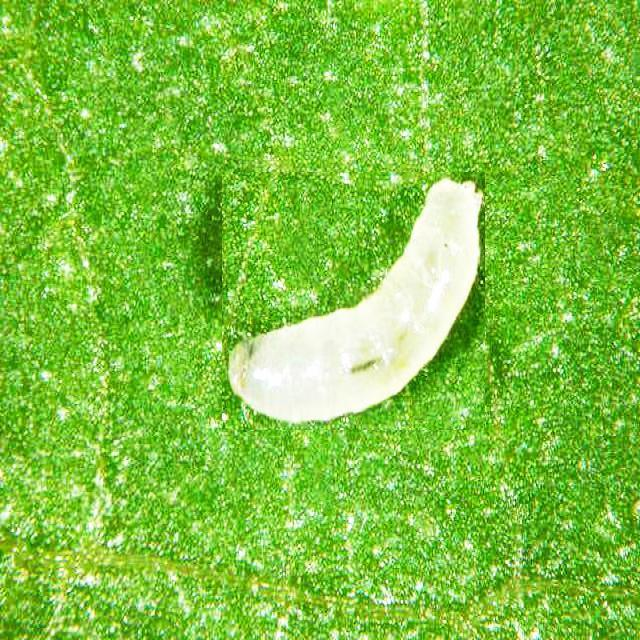whorl-maggot: (222, 172, 485, 430)
